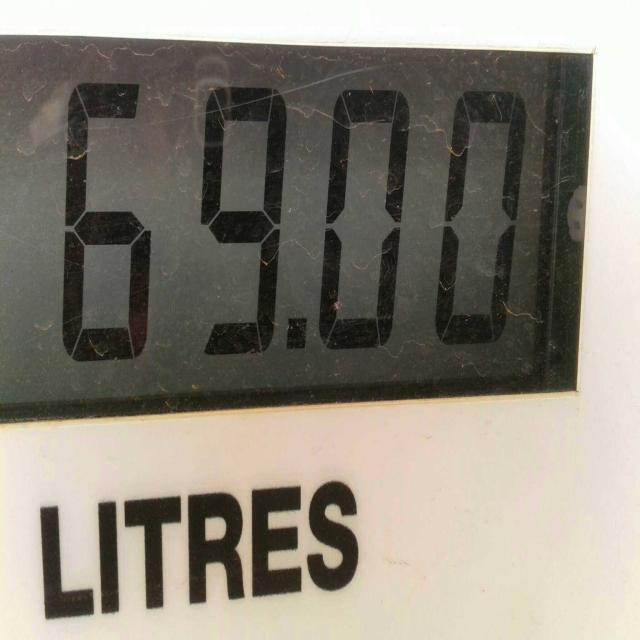.: (278, 297, 313, 368)
0: (312, 72, 421, 359), (426, 58, 528, 361)
6: (52, 80, 173, 371)
9: (188, 80, 309, 371)
